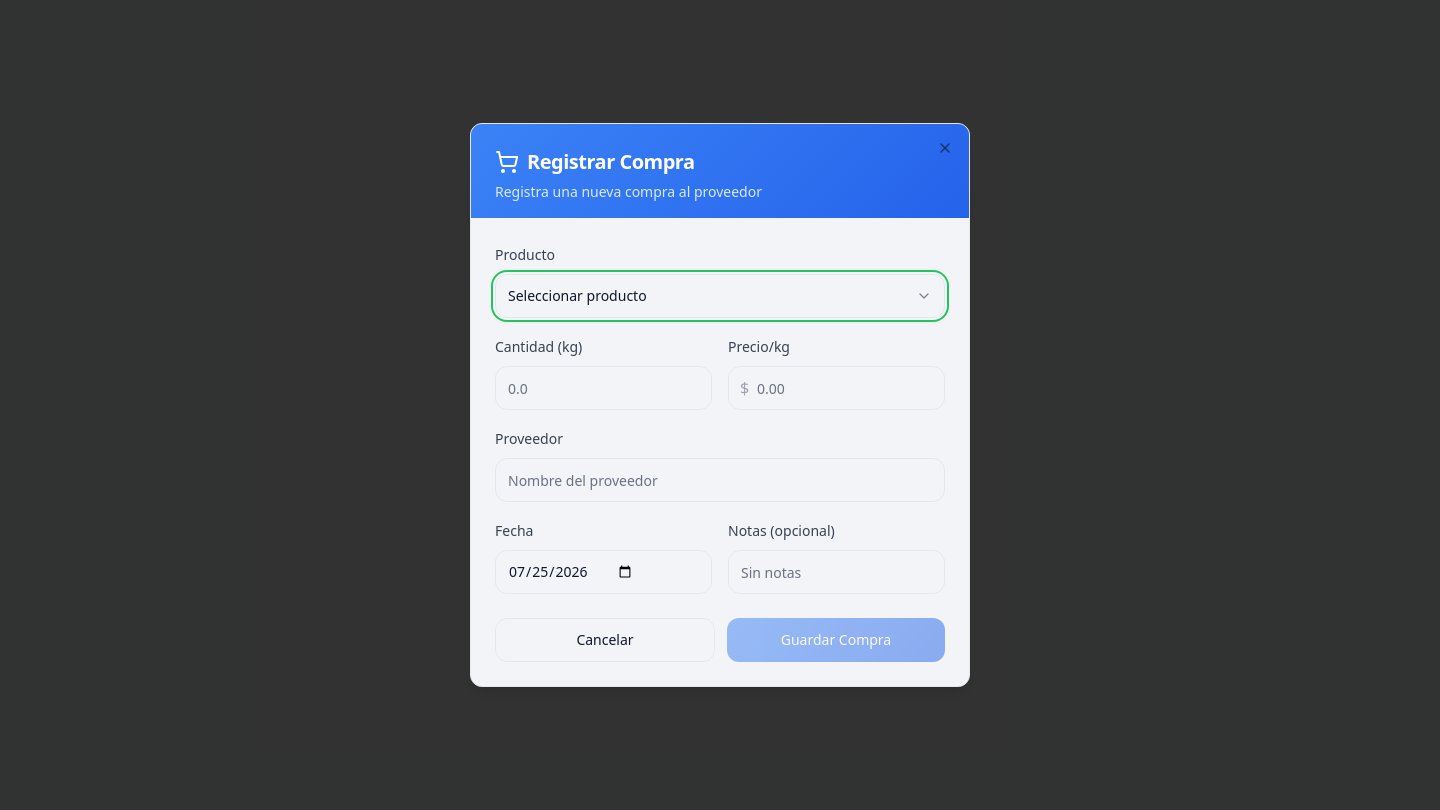
CompraForm - Integracion › envia formulario correctamente
Click the dropdown at {"x": 577, "y": 296}, box [495,274,945,318]
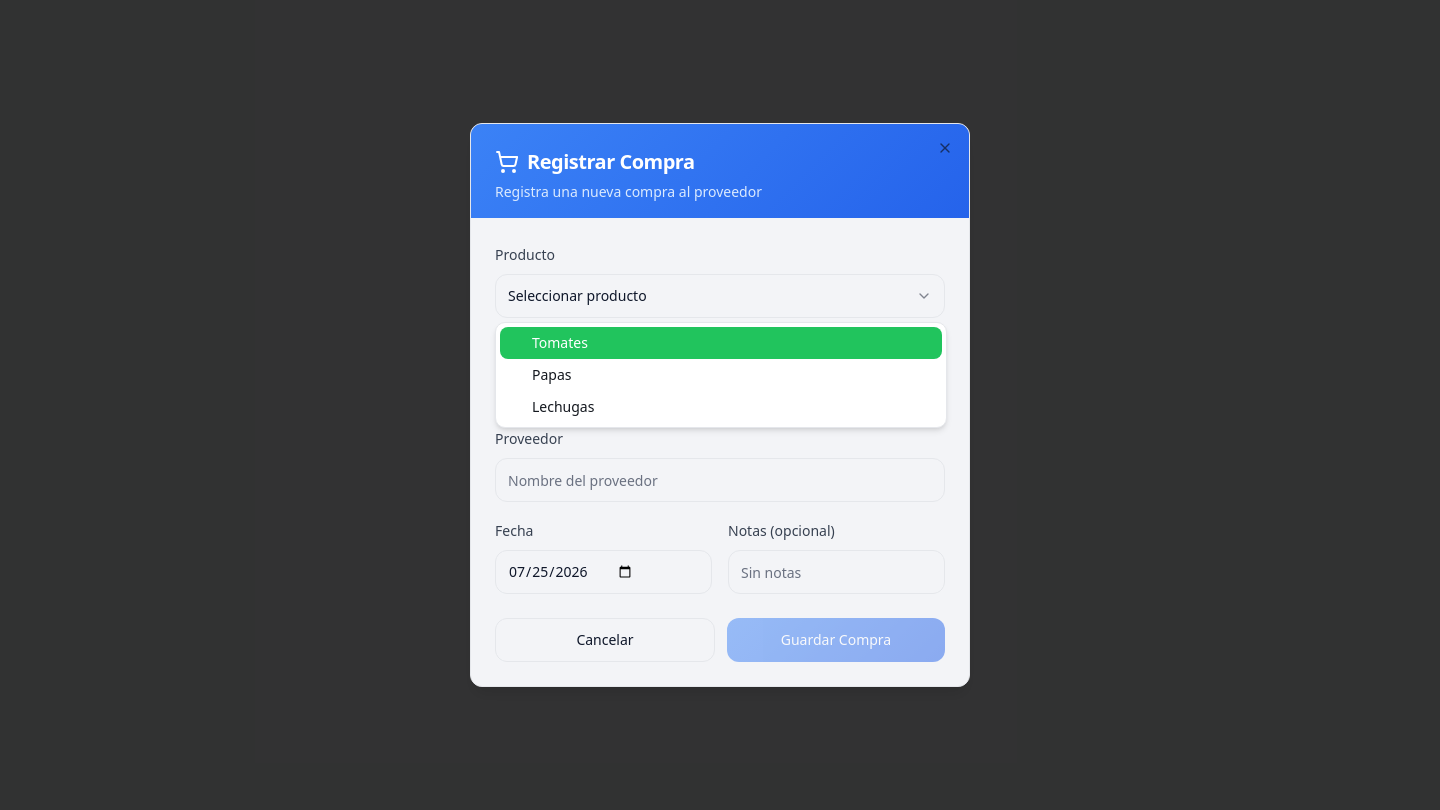
Click the option "Tomates" at {"x": 560, "y": 342}, box [500,327,942,359]
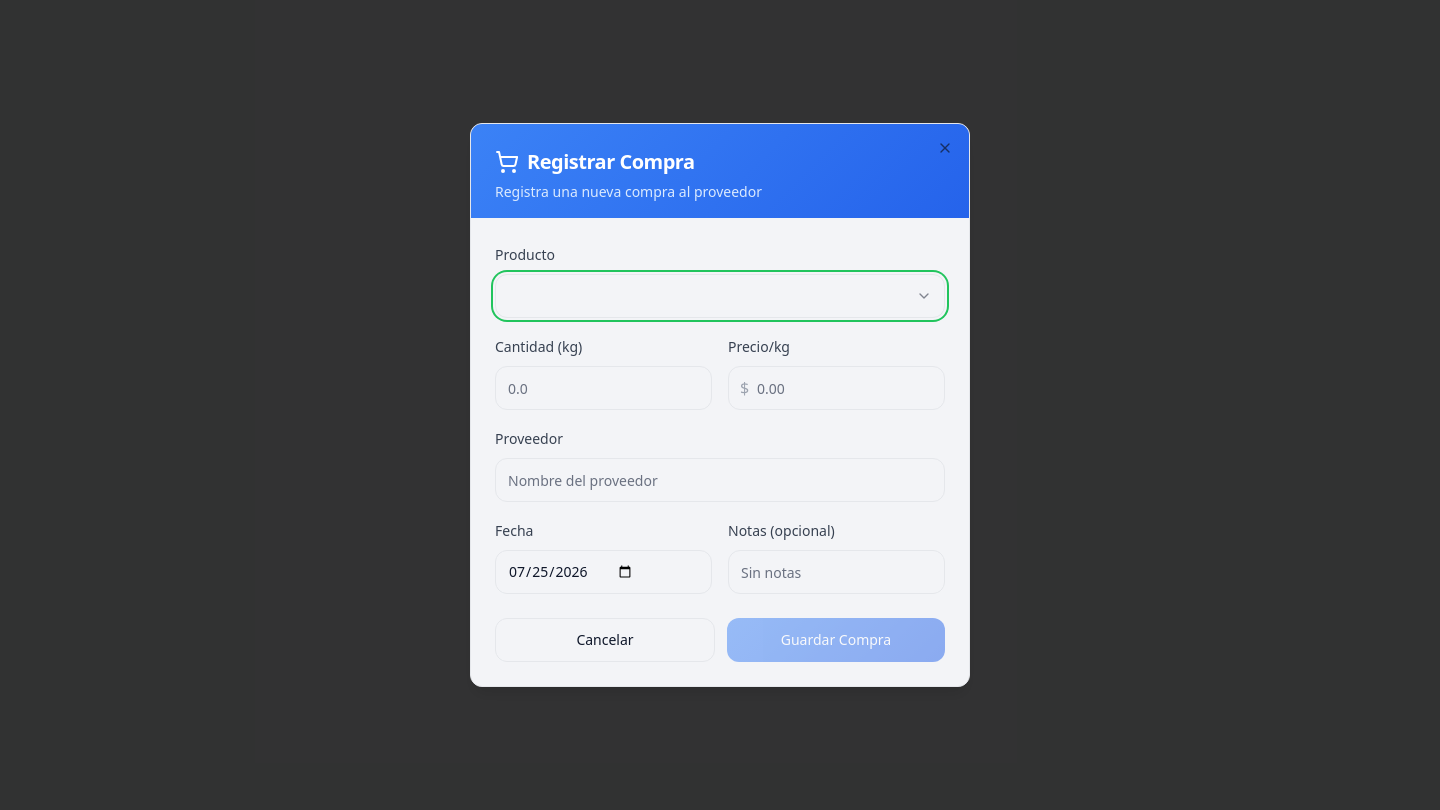
Type "50" into the number field with placeholder "0.0" at {"x": 604, "y": 388}, box [495,366,712,410]
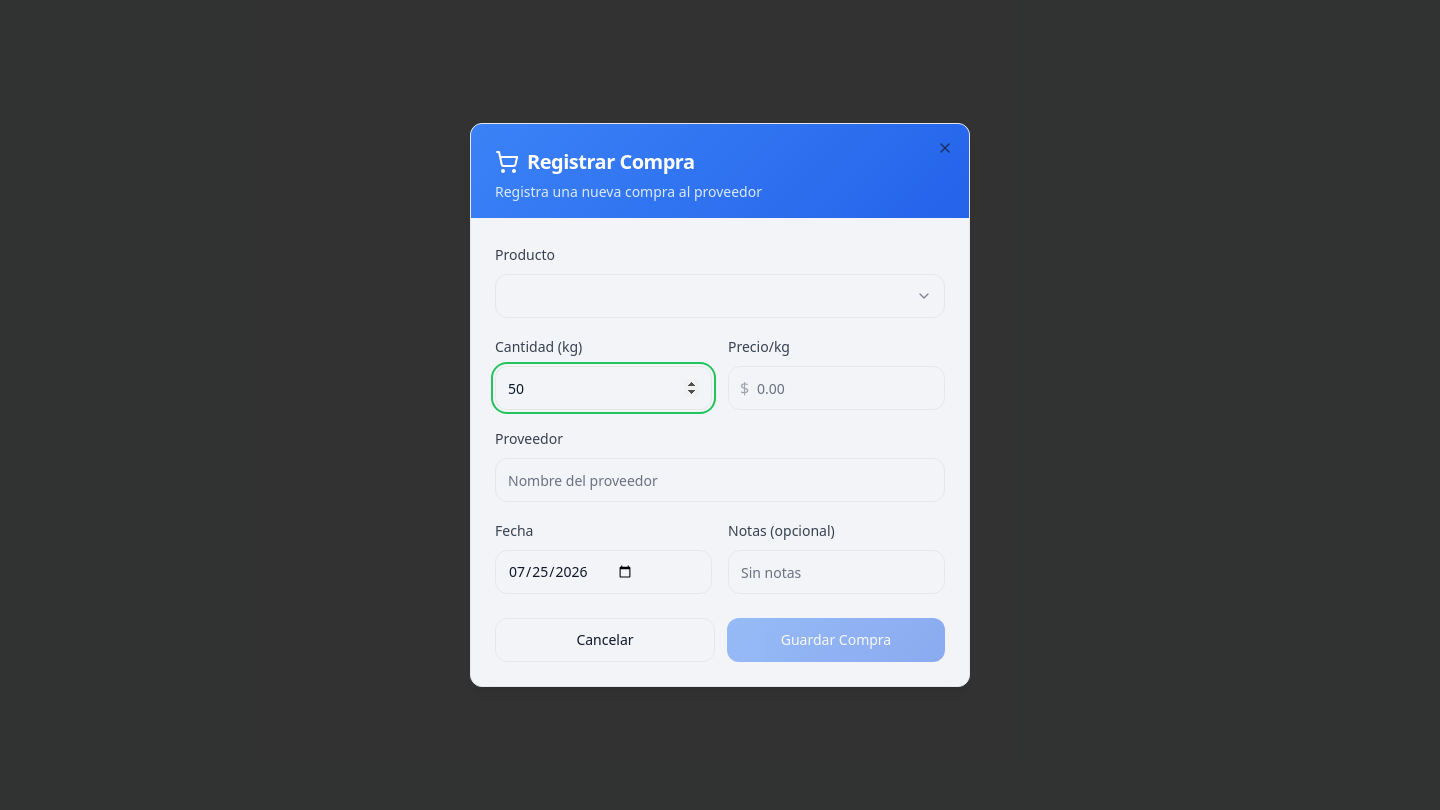
Type "2.00" into the number field with placeholder "0.00" at {"x": 836, "y": 388}, box [728,366,945,410]
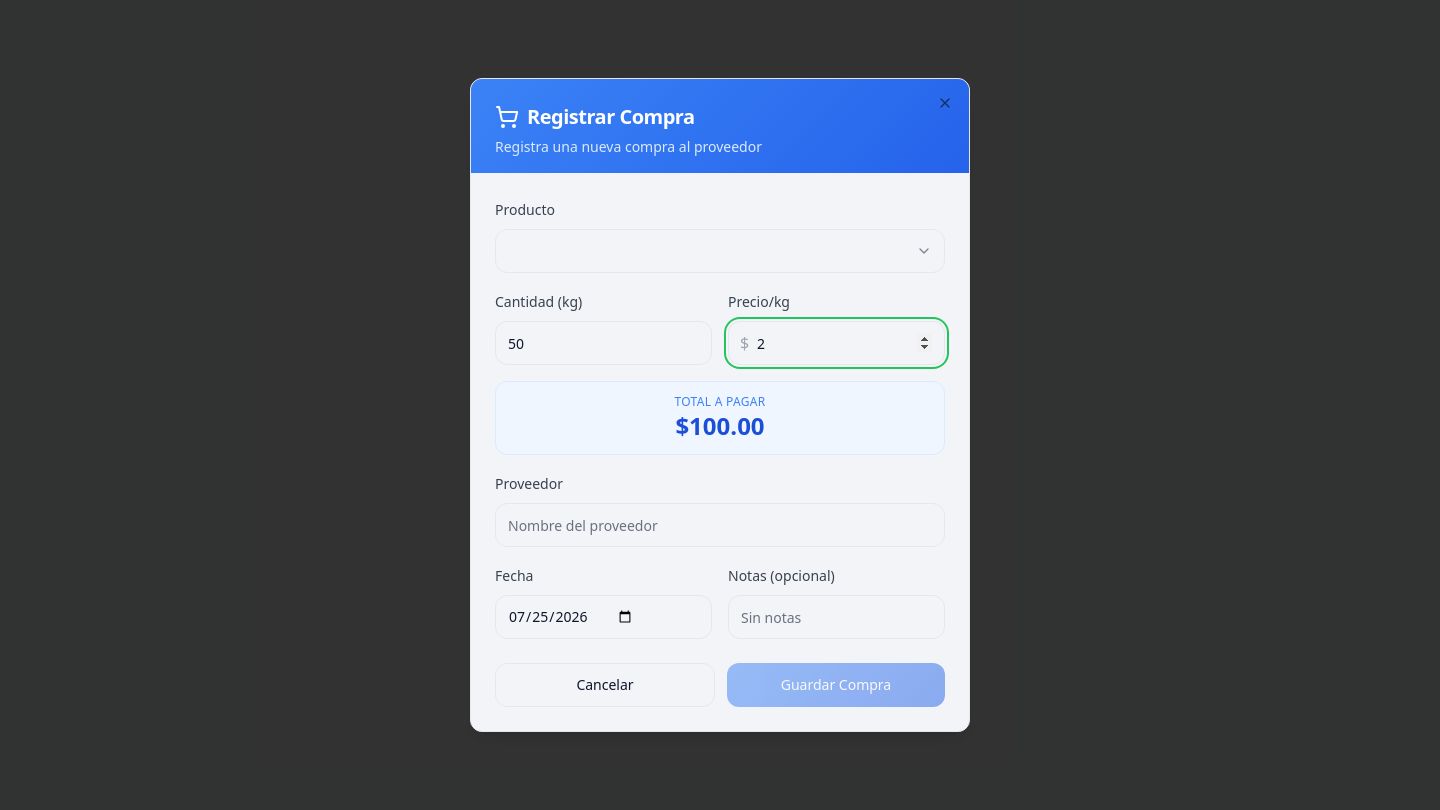
Type "Juan Pérez" into the field with placeholder "Nombre del proveedor" at {"x": 720, "y": 525}, box [495,503,945,547]
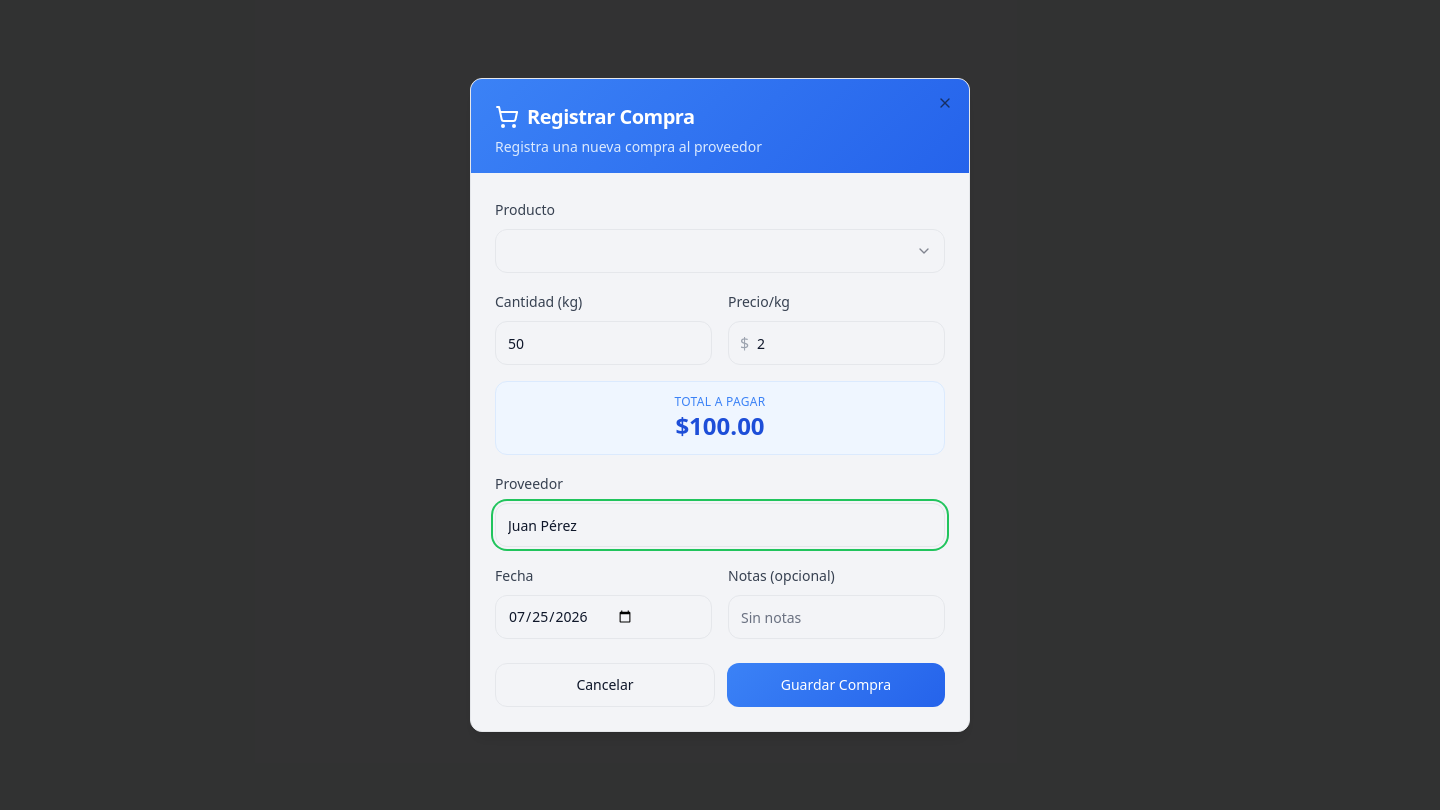
Click the button "Guardar Compra" at {"x": 836, "y": 685}, box [727,663,945,707]
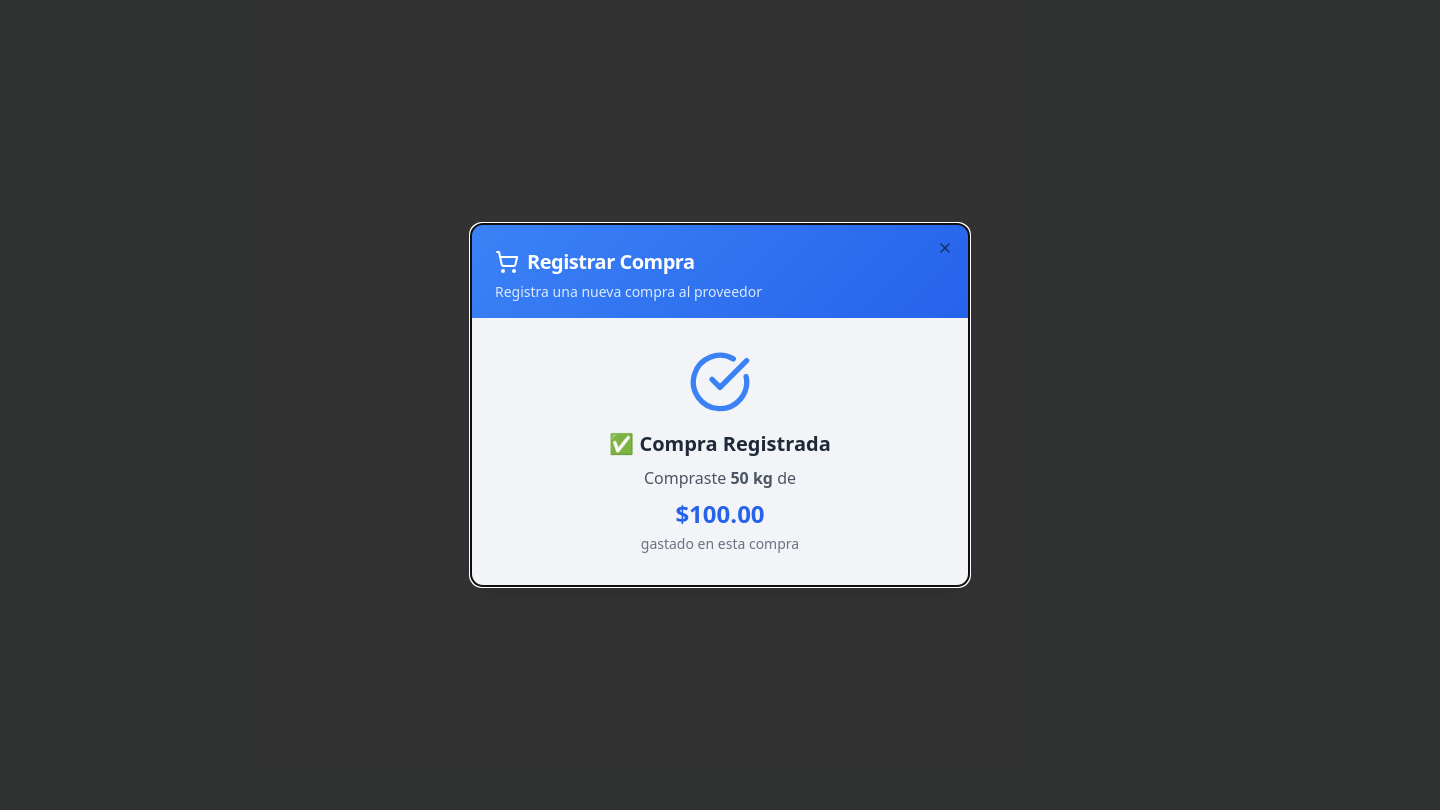
Check: the heading "✅ Compra Registrada" is shown, box [609,430,831,457]
